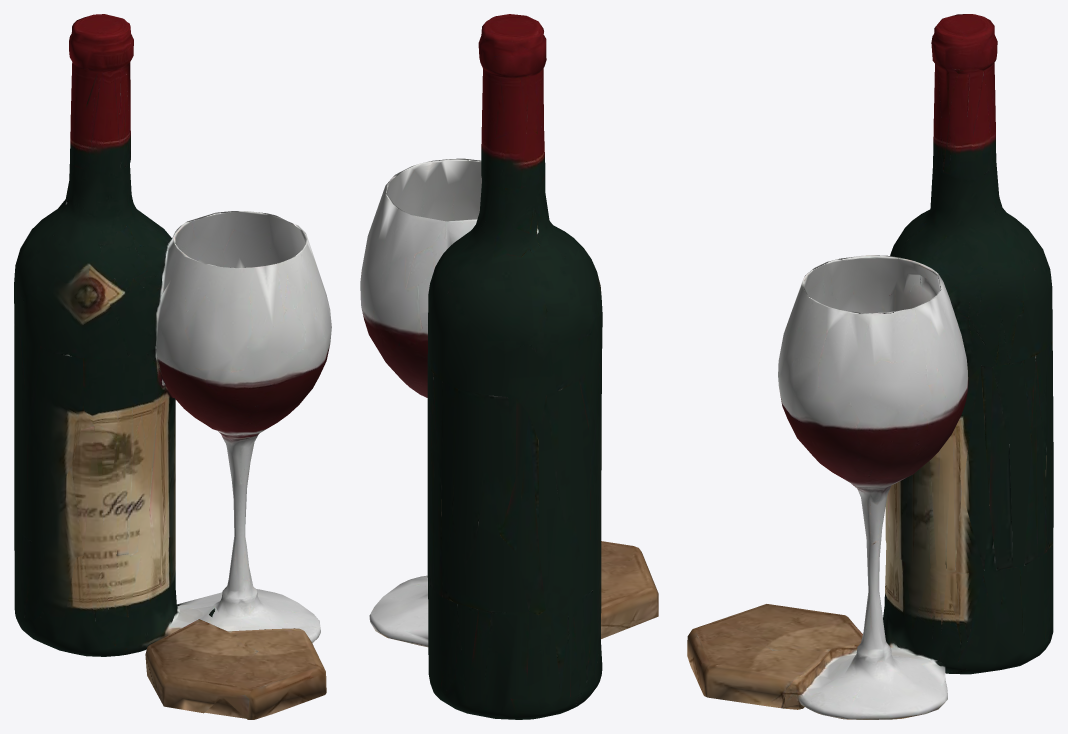
The model's file is token-wine-bottle.glb.
The picture shows the model from 3 angles, left to right: view 1: azimuth 30°, elevation 25°; view 2: azimuth 150°, elevation 25°; view 3: azimuth 270°, elevation 25°; orthographic projection. The views are drawn at different scales.
Bounding box in the file's own units: 0.8075 × 1.9 × 1.01.
1 material, 1 textured.
